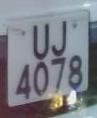0: (33, 60, 52, 101)
4: (14, 57, 33, 105)
7: (50, 54, 68, 101)
8: (66, 52, 85, 97)
J: (50, 17, 69, 60)
U: (31, 19, 52, 63)
